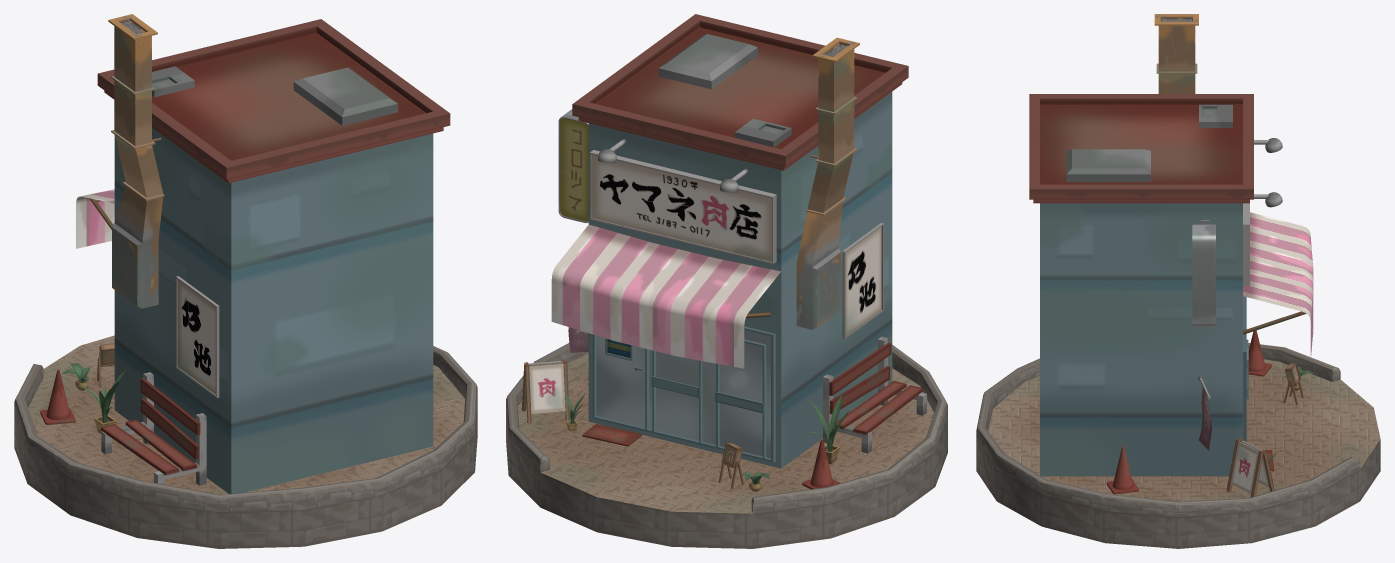
3 renders of one model, left to right at view 1: azimuth 30°, elevation 25°; view 2: azimuth 150°, elevation 25°; view 3: azimuth 270°, elevation 25°, orthographic. The views are drawn at different scales.
Parts seen in each view (by area): view 1: Box030, Cylinder010, Box033_Material #2_0, Box041, Box045, Box034, Plane004, Pylon, Box048, Box043; view 2: Box030, Cylinder010, Plane004, Box032, Box033_Material #2_0, Box031, Box041, Box045, Box034, Sign_Material #2_0, Werbung_Material #3_0, Box048 (+4 smaller); view 3: Box030, Cylinder010, Plane004, Box033_Material #2_0, Box034, Sign_Material #2_0, Werbung_Material #3_0, Box048, Pylon002, Box031, Pylon, Fahne_Material #3_0 (+1 smaller).
Part boxes in pixels (<box>): Box030: <box>97,19,450,493</box>; Cylinder010: <box>14,335,477,548</box>; Box033_Material #2_0: <box>108,14,164,308</box>; Box041: <box>101,372,206,485</box>; Box045: <box>176,276,219,397</box>; Box034: <box>293,67,397,125</box>; Plane004: <box>76,189,114,248</box>; Pylon: <box>40,370,75,424</box>; Box048: <box>152,66,194,97</box>; Box043: <box>80,368,127,433</box>; Box030: <box>572,14,908,468</box>; Cylinder010: <box>506,343,947,548</box>; Plane004: <box>551,224,780,368</box>; Box032: <box>589,150,776,264</box>; Box033_Material #2_0: <box>796,37,859,329</box>; Box031: <box>592,326,775,462</box>; Box041: <box>823,336,926,453</box>; Box045: <box>842,223,883,339</box>; Box034: <box>658,34,757,89</box>; Sign_Material #2_0: <box>558,109,588,222</box>; Werbung_Material #3_0: <box>521,359,569,423</box>; Box048: <box>734,118,791,147</box>; Box030: <box>1029,94,1253,476</box>; Cylinder010: <box>976,343,1380,548</box>; Plane004: <box>1243,212,1313,358</box>; Box033_Material #2_0: <box>1154,14,1198,93</box>; Box034: <box>1066,149,1150,181</box>; Sign_Material #2_0: <box>1192,220,1215,326</box>; Werbung_Material #3_0: <box>1226,438,1274,497</box>; Box048: <box>1199,104,1232,127</box>; Pylon002: <box>1106,446,1138,494</box>; Box031: <box>1243,296,1248,441</box>; Pylon: <box>1248,330,1271,376</box>; Fahne_Material #3_0: <box>1198,375,1211,450</box>.
Size of the model in its own units: 5.95 by 6.44 by 5.97.
2 materials, 2 textured.
